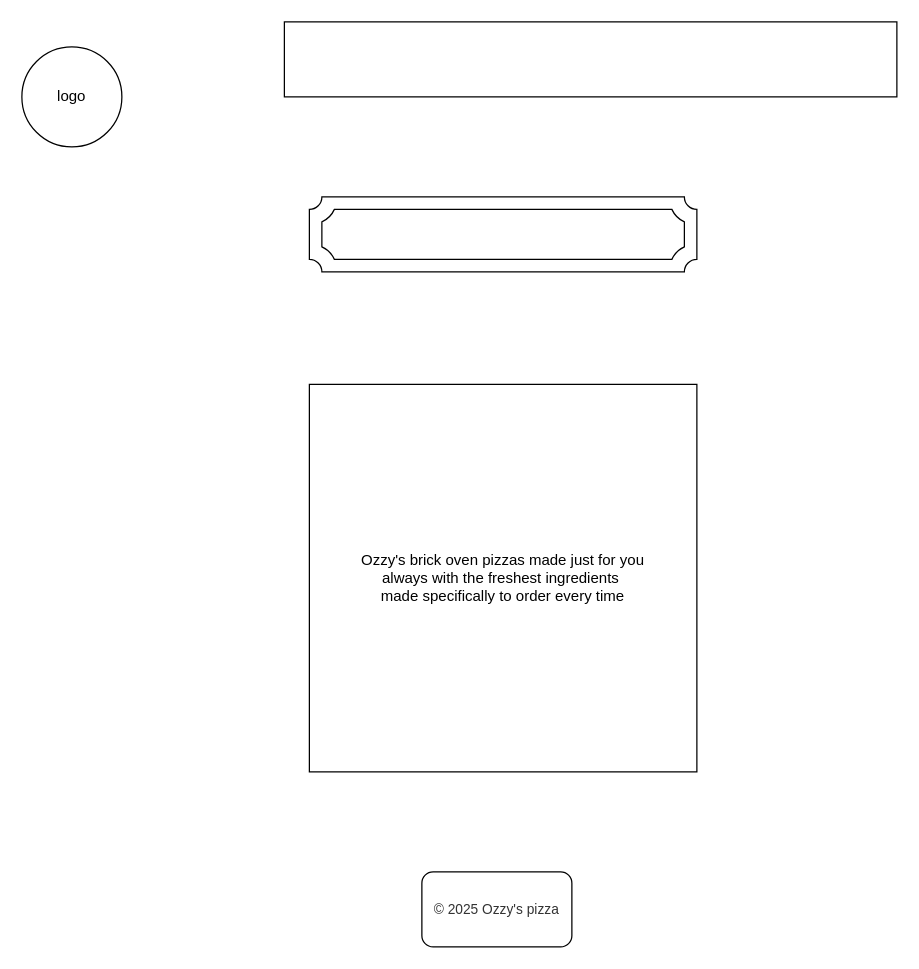
Some shapes in this 919 by 969 pixel diagram are drawn without their labels. Each missing label, with the centre of its shape:
"home/menu/create your own/contact" goes at [590,59].
"Ozzy's Pizza" goes at [502,234].
